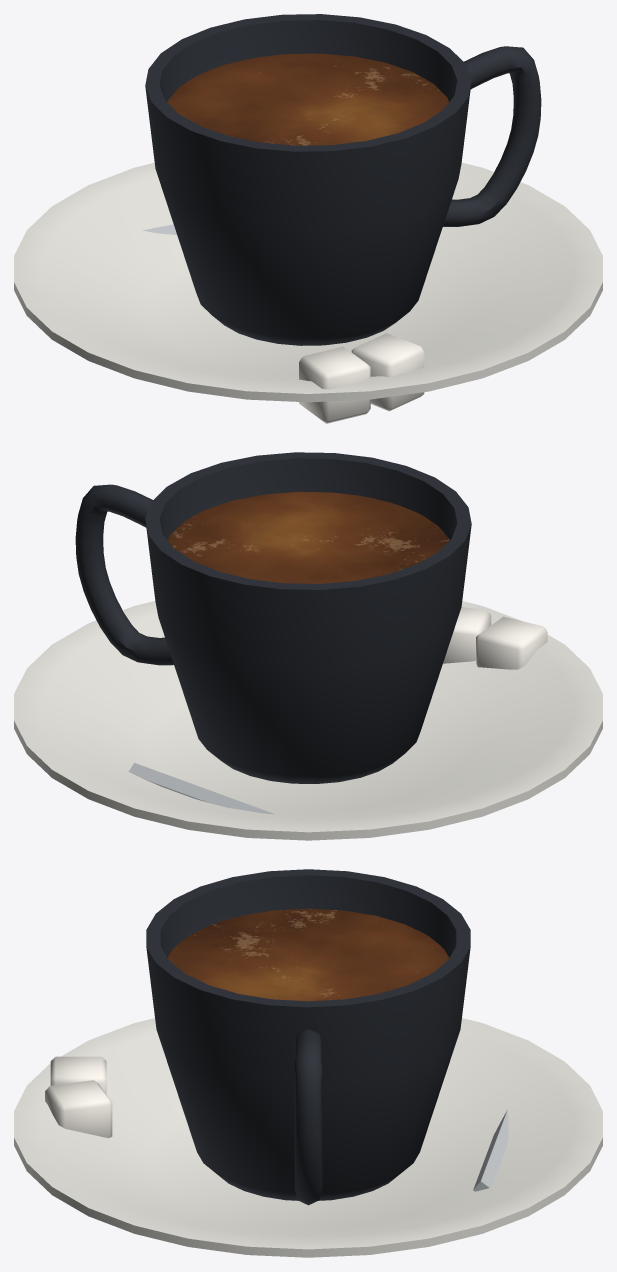
The model's file is drink_espresso_cup_sugar.glb.
The picture shows the model from 3 angles, top to bottom: view 1: azimuth 30°, elevation 25°; view 2: azimuth 150°, elevation 25°; view 3: azimuth 270°, elevation 25°; orthographic projection.
Visible parts, largest first — view 1: drink_espresso_cup_sugar; view 2: drink_espresso_cup_sugar; view 3: drink_espresso_cup_sugar.
Part boxes in pixels (x1,y1,x2,y2): drink_espresso_cup_sugar: (14, 14, 602, 423); drink_espresso_cup_sugar: (14, 452, 602, 840); drink_espresso_cup_sugar: (14, 869, 602, 1257).
Bounding box in the file's own units: 0.116 × 0.054 × 0.1154.
6 materials, 1 textured.
